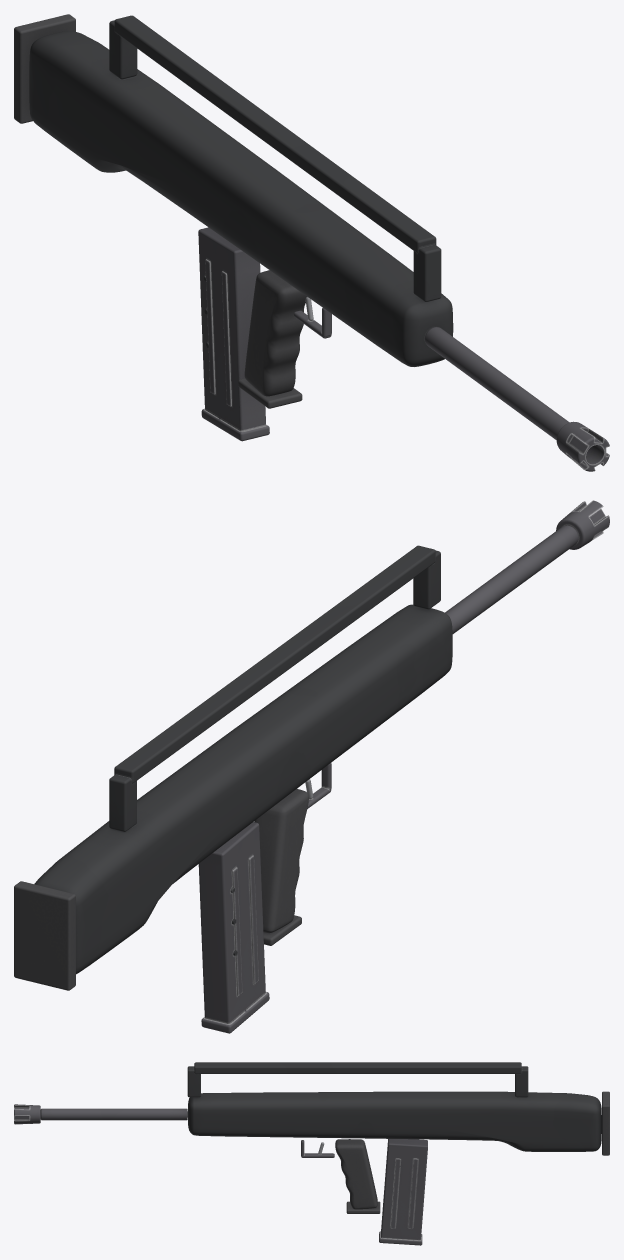
The model's file is famas.fbx.
3 views of the same model, one above another, from view 1: azimuth 30°, elevation 25°; view 2: azimuth 150°, elevation 25°; view 3: azimuth 270°, elevation 25° (orthographic). The views are drawn at different scales.
Visible parts, largest first — view 1: famas; view 2: famas; view 3: famas.
Part boxes in pixels (<box>): famas: <box>14,14,609,471</box>; famas: <box>14,500,609,1033</box>; famas: <box>14,1062,609,1245</box>.
Bounding box in the file's own units: 0.0525 × 0.2932 × 0.892.
